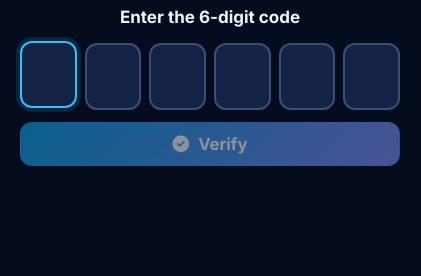
Test: CodeEntry › moves along as digits are typed and shows the error after a wrong code
The image size is (421, 276).
Type "9" into the field named "1" at (48, 74), box [20,41,77,108]
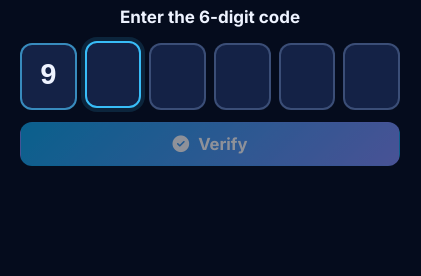
Type "8" into the field named "2" at (113, 75), box [85,41,141,108]
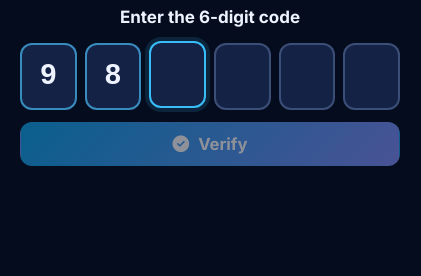
Type "7" into the field named "3" at (178, 75), box [149,41,206,108]
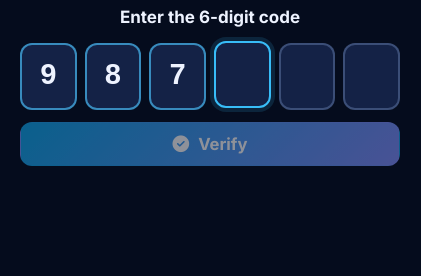
Type "6" into the field named "4" at (242, 74), box [214,41,271,108]
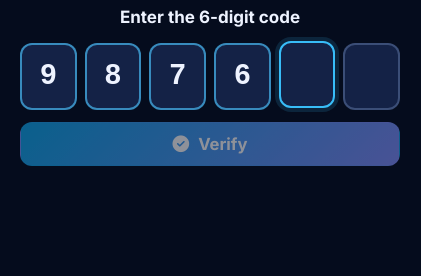
Type "5" into the field named "5" at (307, 75), box [279,41,335,108]
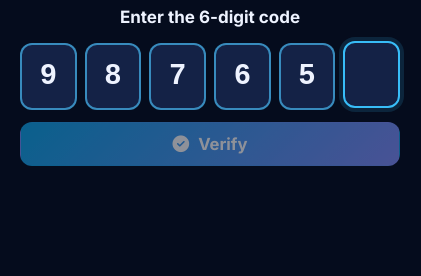
Type "4" into the field named "6" at (372, 75), box [343,41,400,108]
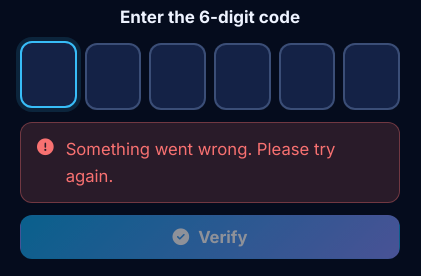
Expected: the message "Something went wrong. Please try again." is shown, [20,122,400,203]
Expected: the field named "1" is empty, [20,41,77,108]
